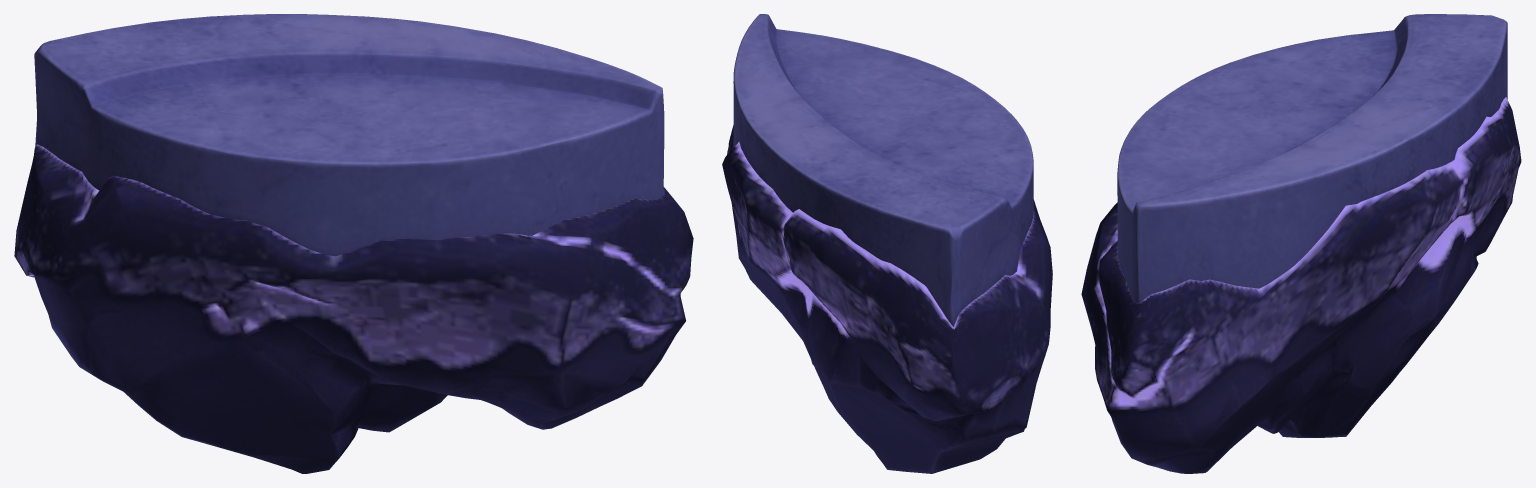
The model's file is sky_rock_02a2_nexus.glb.
The picture shows the model from 3 angles, left to right: view 1: azimuth 30°, elevation 25°; view 2: azimuth 150°, elevation 25°; view 3: azimuth 270°, elevation 25°; orthographic projection. The views are drawn at different scales.
Visible parts, largest first — view 1: rock_02a2; view 2: rock_02a2; view 3: rock_02a2.
Part boxes in pixels (left/top/right/bottom): rock_02a2: left=14, top=14, right=693, bottom=473; rock_02a2: left=722, top=14, right=1052, bottom=473; rock_02a2: left=1081, top=14, right=1521, bottom=473.
Size of the model in its own units: 34.4 by 25.49 by 28.99.
1 material, 1 textured.
